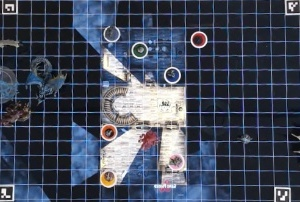blue: (161, 64, 182, 85)
green: (129, 40, 149, 60)
orange: (98, 123, 117, 142)
pink: (169, 155, 184, 168)
red: (190, 28, 210, 51)
violet: (105, 23, 121, 43)
yellow: (98, 166, 120, 187)
